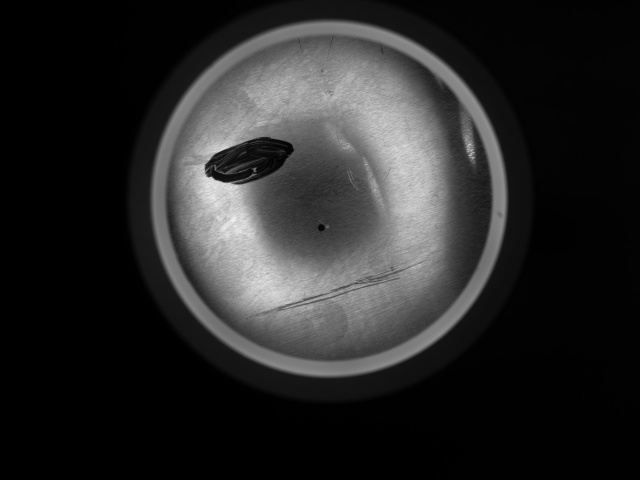ca_shang: (239, 252, 438, 320)
zang_wu: (203, 136, 297, 187)
zhen_kong: (316, 219, 330, 235)
